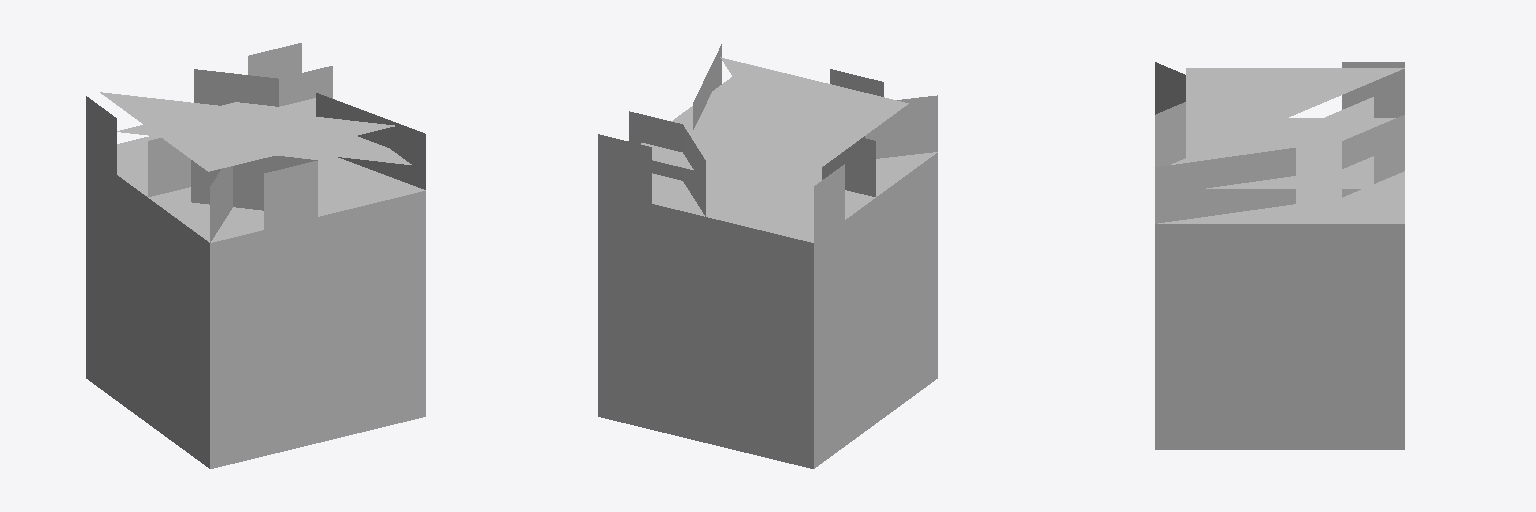
File: blushrock_11a.obj
3 renders of one model, left to right at view 1: azimuth 30°, elevation 25°; view 2: azimuth 150°, elevation 25°; view 3: azimuth 270°, elevation 25°, orthographic.
Size of the model in its own units: 1 by 1.25 by 1.